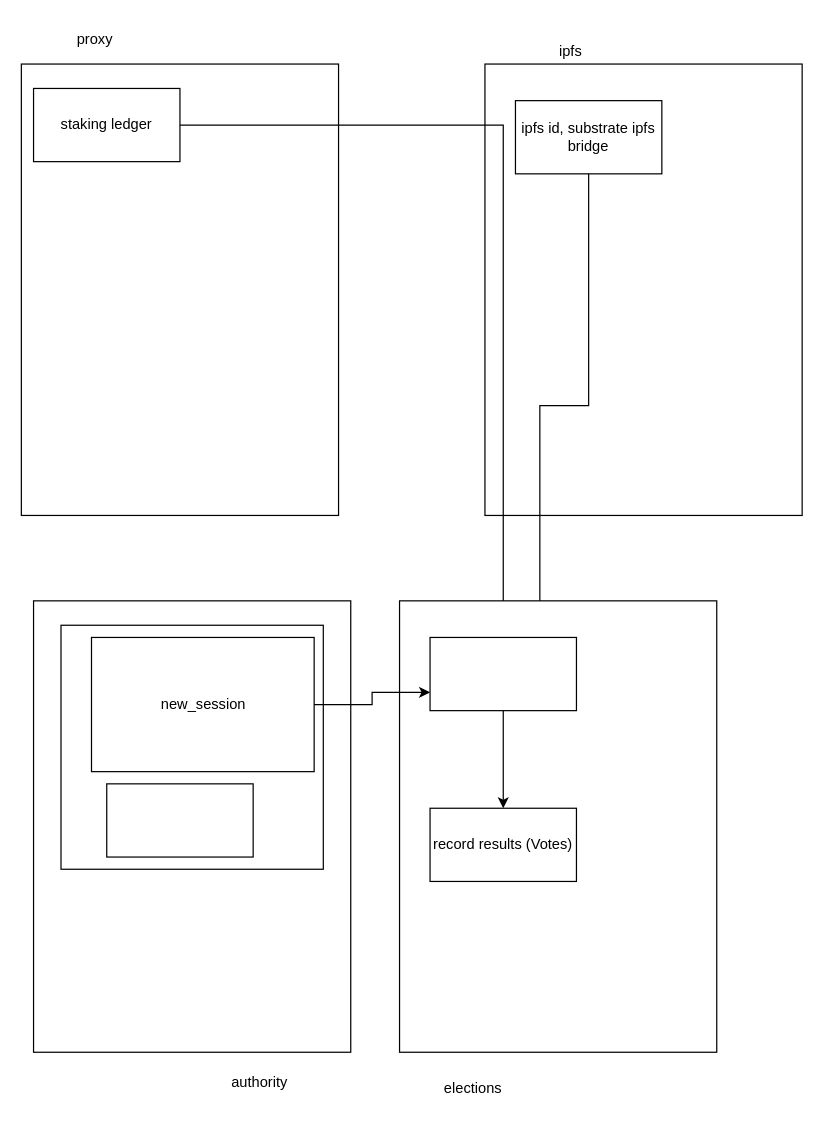
This 824x1127 diagram has some shape labels left out. Each missing label, with the centre of its shape:
perform election: the point at 502,673
start_session: the point at 179,820
